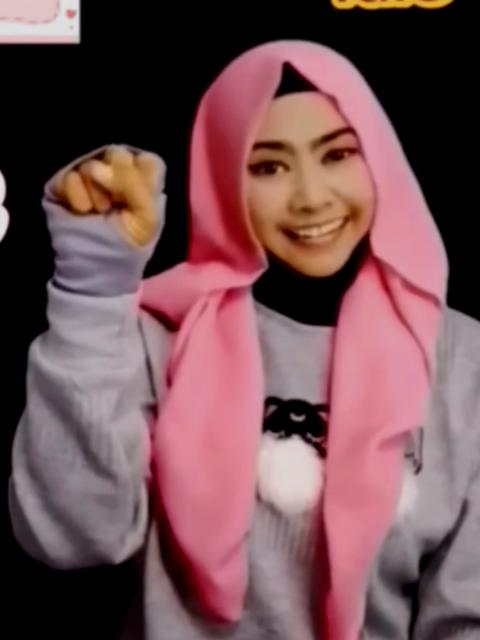S: (30, 139, 176, 291)
